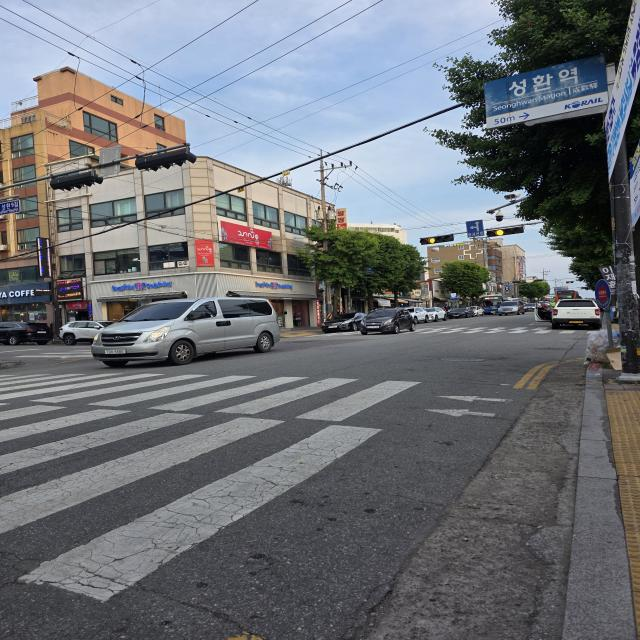car: (81, 291, 290, 367), (547, 294, 604, 332), (0, 317, 54, 349), (363, 306, 418, 334), (58, 320, 115, 346), (317, 312, 363, 334), (496, 298, 526, 319)
